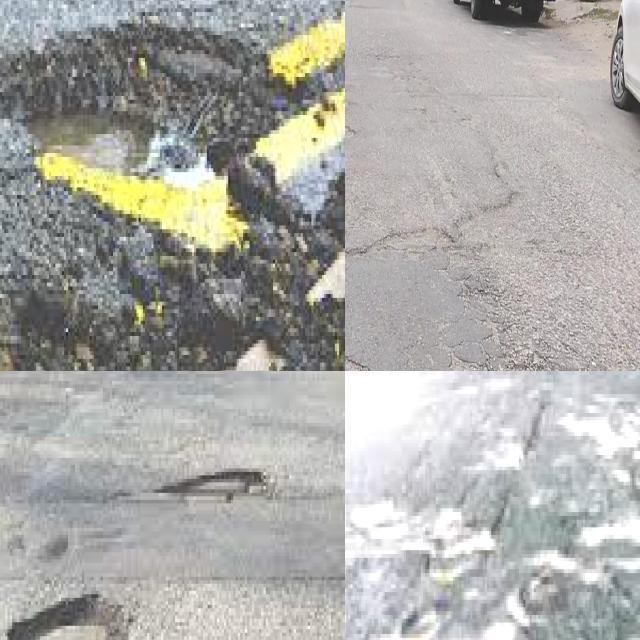Pothole: (23, 24, 256, 256), (14, 591, 135, 640), (166, 472, 268, 493)
